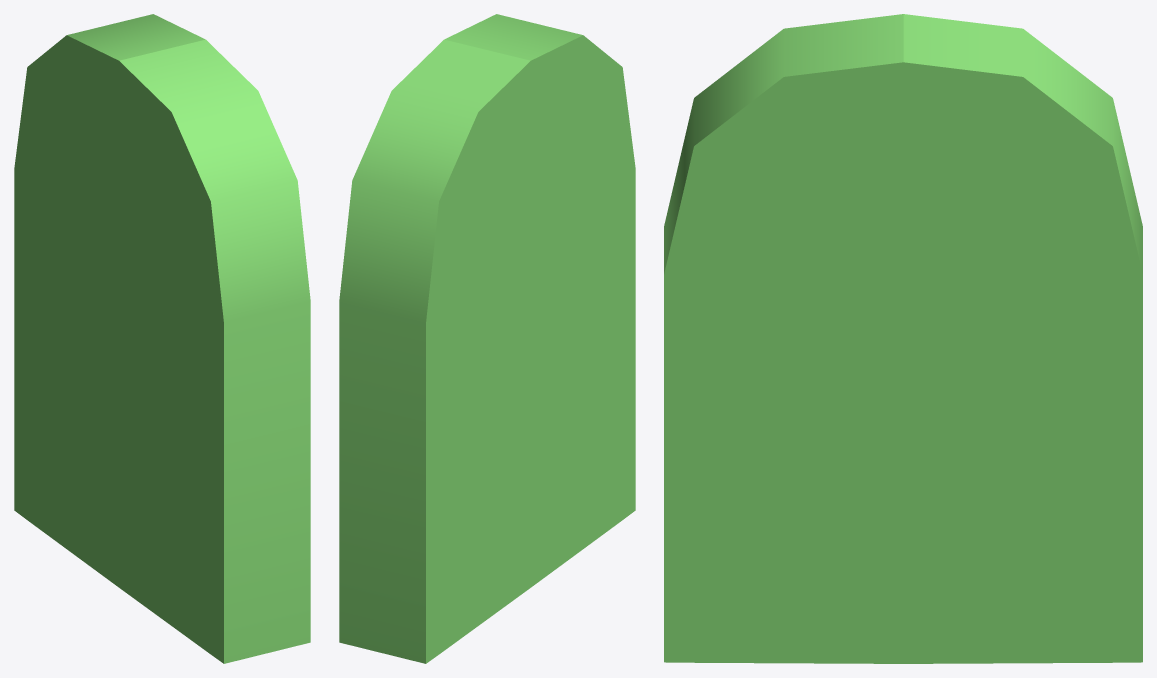
The model's file is puertasColiseo.fbx.
3 renders of one model, left to right at view 1: azimuth 30°, elevation 25°; view 2: azimuth 150°, elevation 25°; view 3: azimuth 270°, elevation 25°, orthographic. The views are drawn at different scales.
Visible parts, largest first — view 1: P001, P002; view 2: P002, P001; view 3: P002, P001.
Boxes of the visible parts, <box> form: P001: <box>119,39,310,663</box>; P002: <box>14,14,205,587</box>; P002: <box>339,39,530,663</box>; P001: <box>444,14,635,587</box>; P002: <box>903,14,1142,663</box>; P001: <box>664,14,903,663</box>.
Size of the model in its own units: 1.79 by 10.38 by 7.49.
